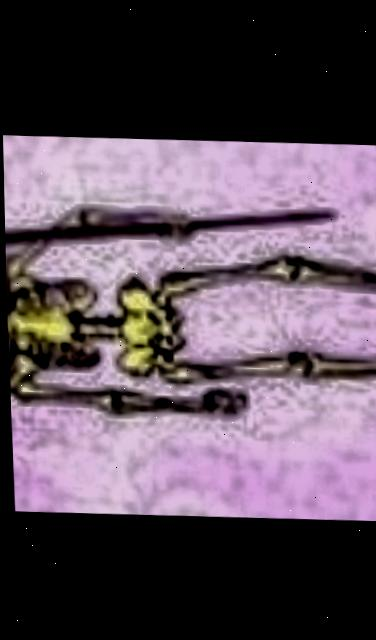La Muerte: (2, 128, 376, 524)
